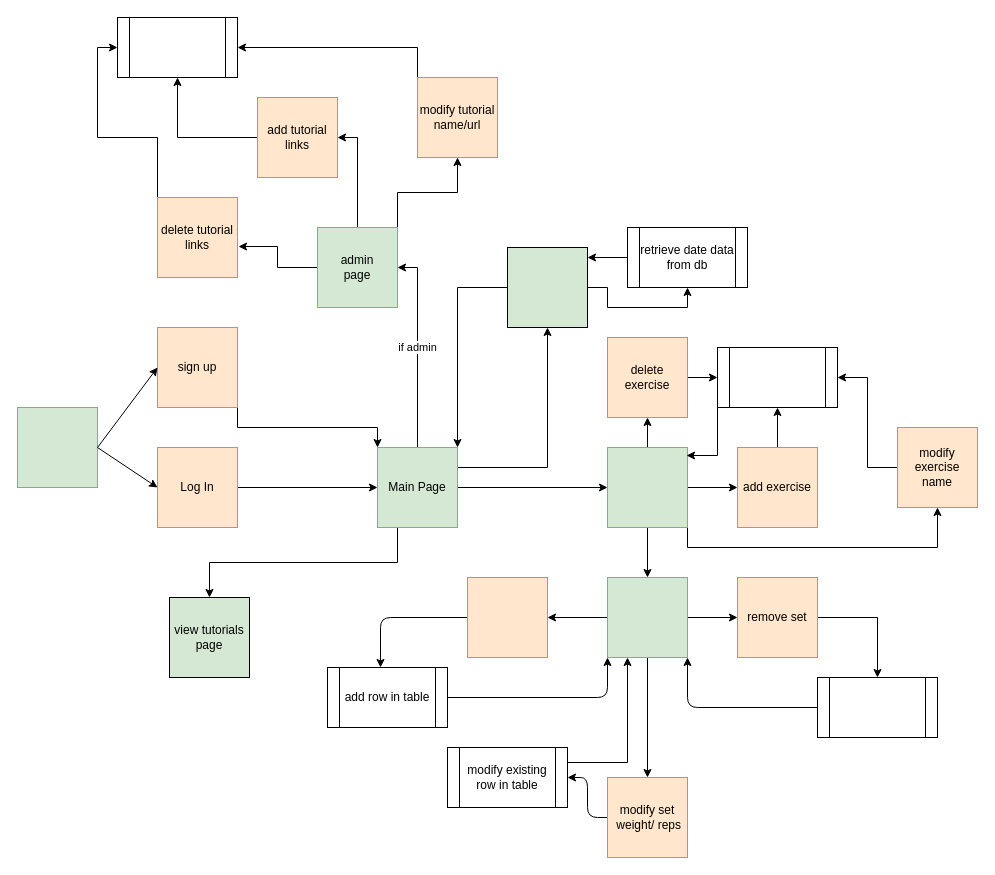
This 995x875 diagram has some shape labels left out. Here are the shapes that lost their labels. From the top down, the centre of each, then its label:
point (177, 47): add, remove, or modify a tutorial entry
point (547, 287): view daily log page
point (777, 377): add, remove, or modify an entry
point (57, 447): Home Page
point (647, 487): view exercises page
point (507, 617): add set
point (647, 617): view a set page
point (877, 707): remove row in table
